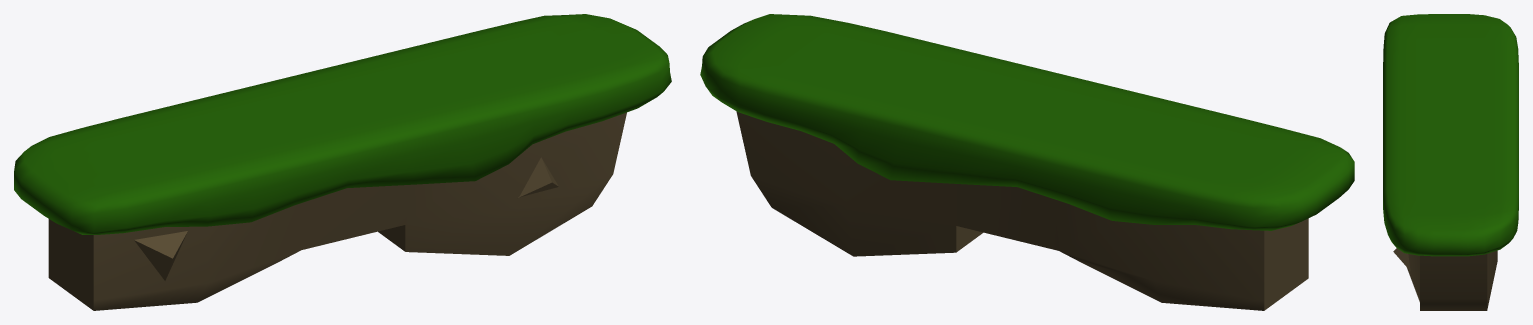
The model's file is platform_grass.fbx.
3 renders of one model, left to right at view 1: azimuth 30°, elevation 25°; view 2: azimuth 150°, elevation 25°; view 3: azimuth 270°, elevation 25°, orthographic. The views are drawn at different scales.
Visible parts, largest first — view 1: pCube8; view 2: pCube8; view 3: pCube8.
Part boxes in pixels (x1=…): pCube8: x1=14, y1=14, x2=671, y2=310; pCube8: x1=700, y1=14, x2=1354, y2=310; pCube8: x1=1383, y1=14, x2=1518, y2=310.
Bounding box in the file's own units: 9.88 × 2.64 × 2.52.
